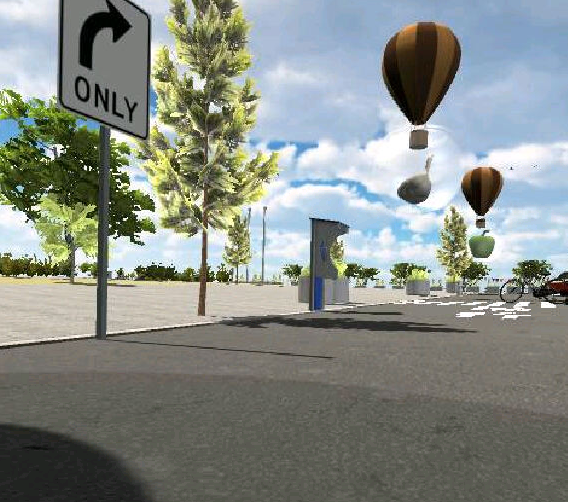arrow_right: (70, 1, 133, 72)
